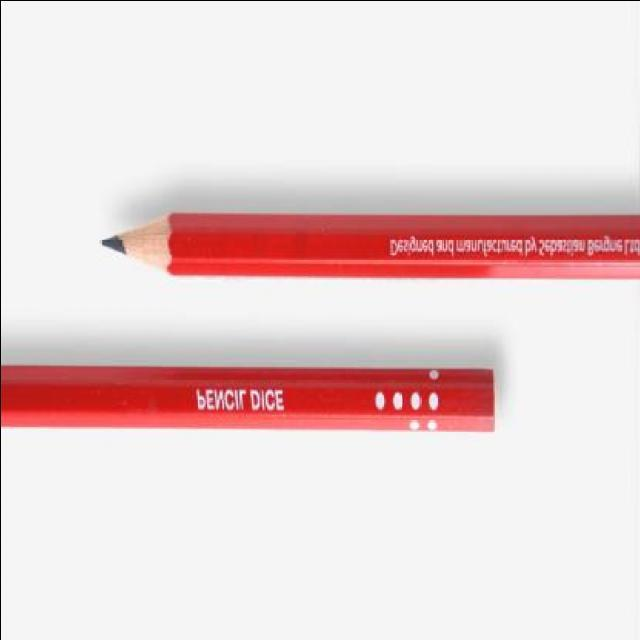Pencil: (93, 185, 187, 287)
